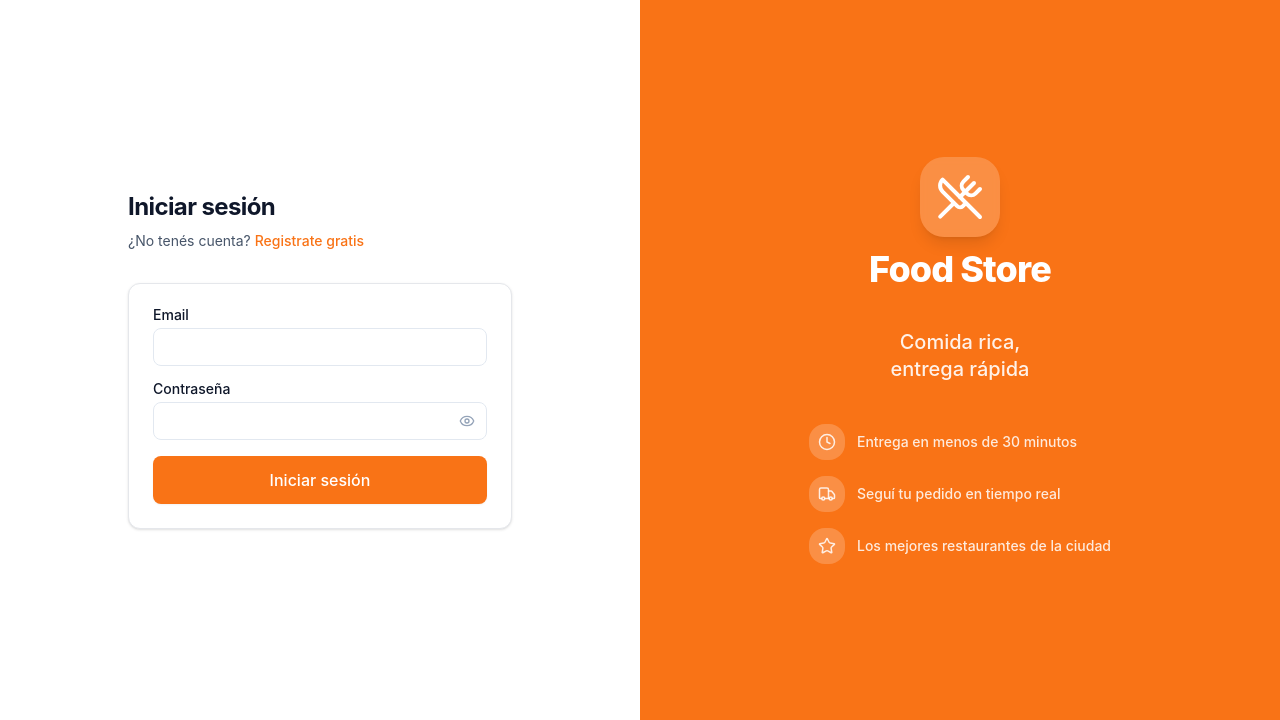
LoginPage › shows rate limit error message
Type "user@example.com" into the field labelled "Email" at (320, 347), box [153,328,487,366]
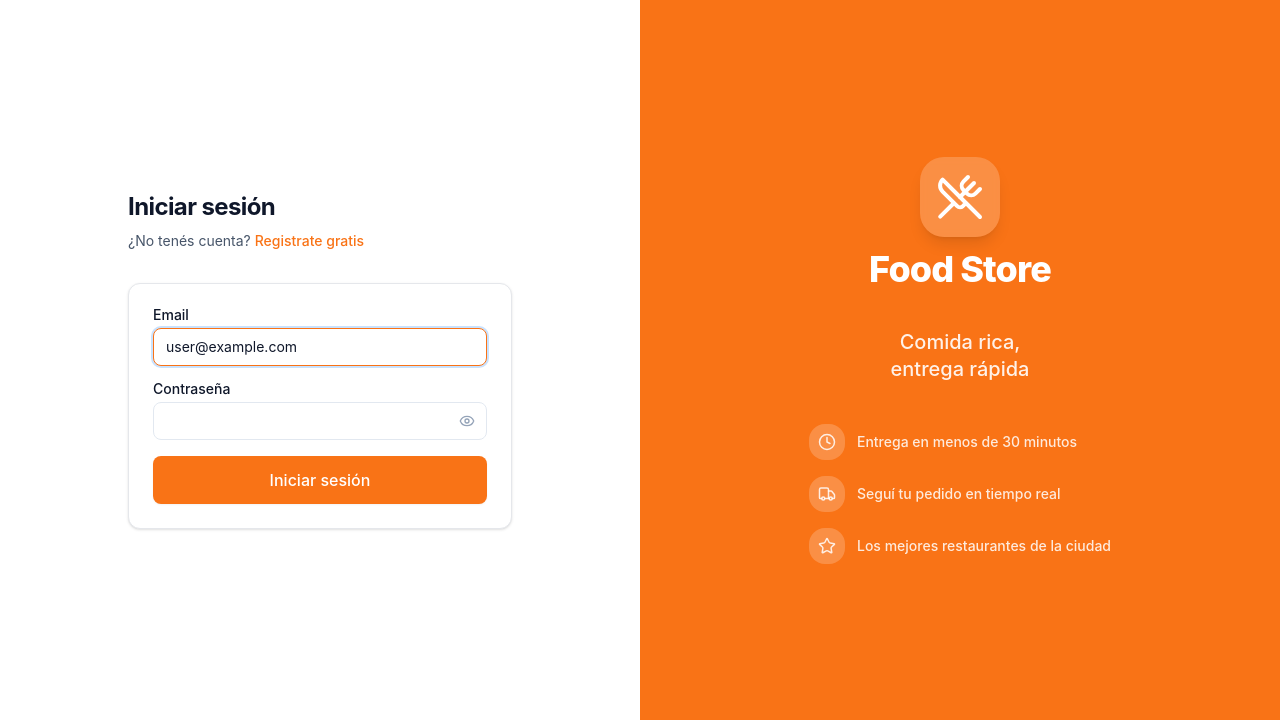
Type "password123" into the password field labelled "Contraseña" at (320, 421), box [153,402,487,440]
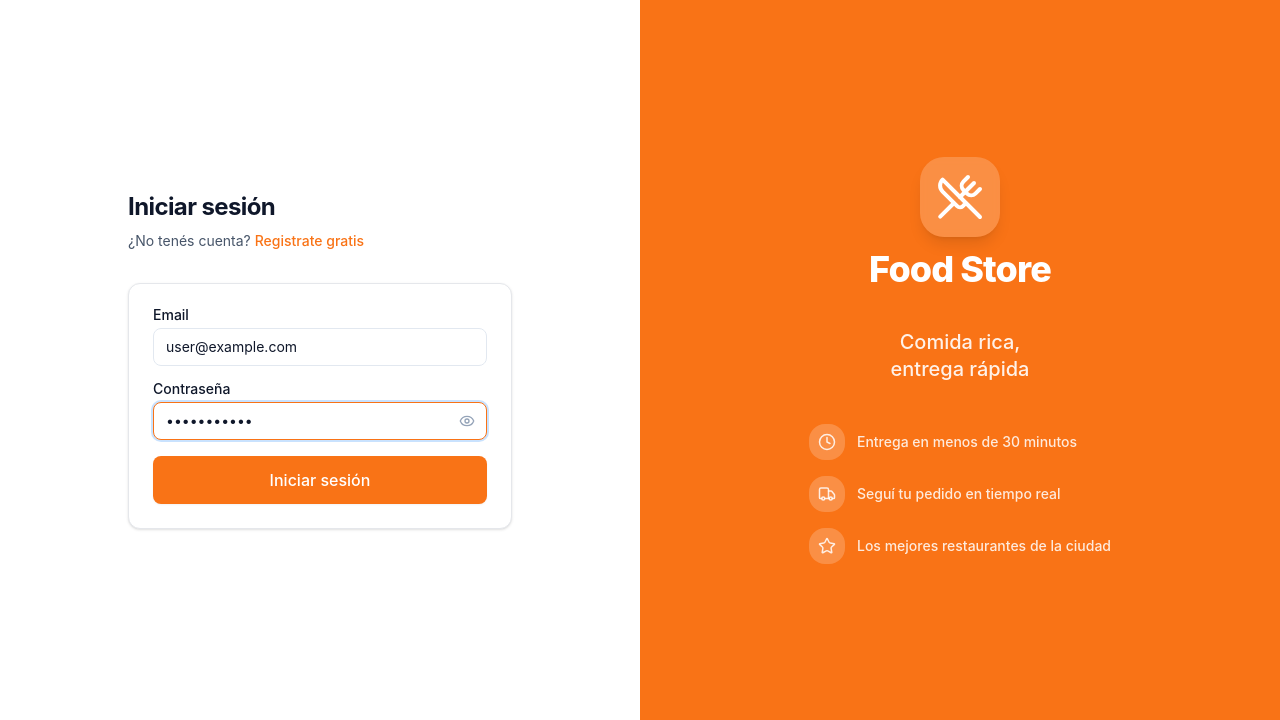
Click the button "Iniciar sesión" at (320, 480), box [153,456,487,504]
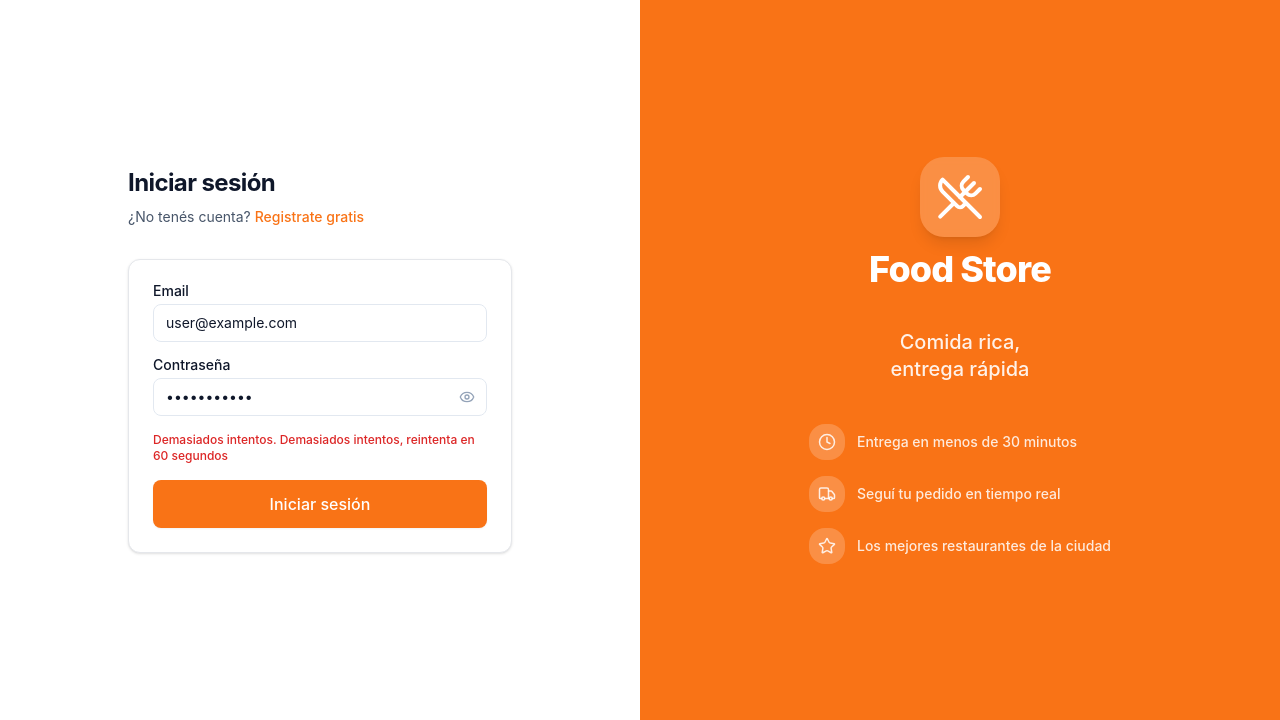
Now the text "Demasiados intentos. Demasiados intentos, reintenta en 60 segundos" is shown, box [153,432,487,464]
